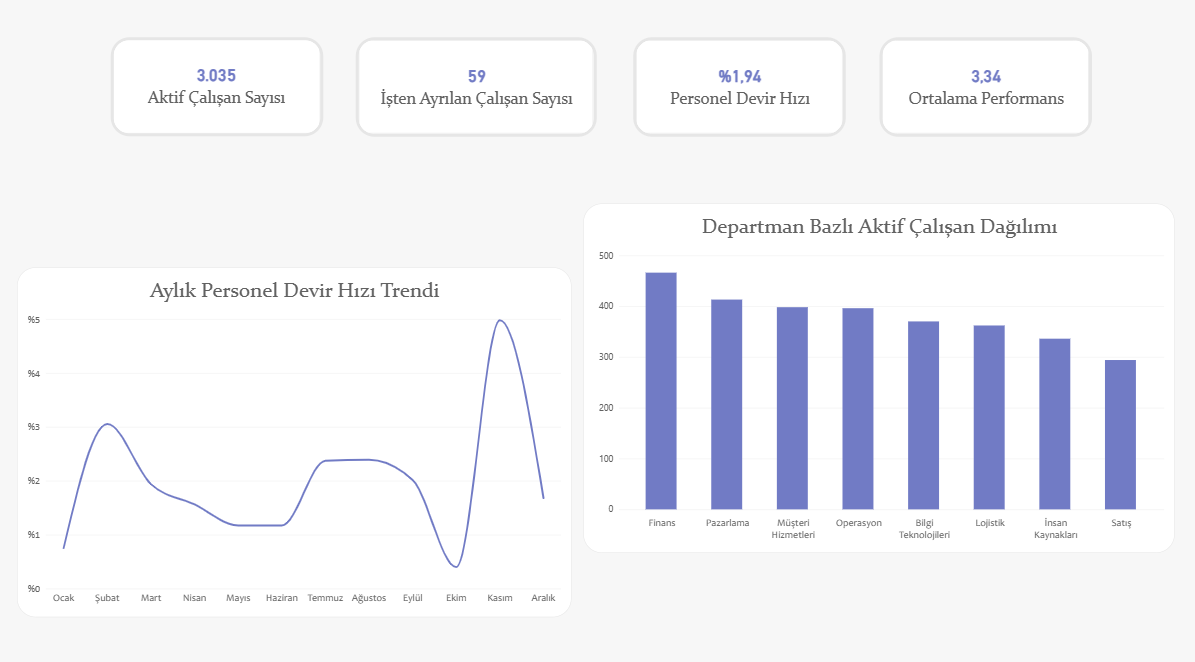

This screenshot's page, from the dashboard's own definition file:
{"tool":"powerbi","page":{"name":"İK & Çalışan Devir Oranı (Turnover) Paneli","canvas":[1920,1080],"ordinal":0},"visuals":[{"type":"cardVisual","fields":{"Data":["01 - Ölçüler.Aktif Çalışan Sayısı"]},"box":[182.8,67,339.6,158.5],"z":0},{"type":"cardVisual","fields":{"Data":["01 - Ölçüler.İşten Ayrılan Çalışan Sayısı"]},"box":[573.7,67,385.5,159.3],"z":1000},{"type":"cardVisual","fields":{"Data":["01 - Ölçüler.Personel Devir Hızı %"]},"box":[1018.8,67,340.2,159.3],"z":2000},{"type":"cardVisual","fields":{"Data":["01 - Ölçüler.Ortalama Performans"]},"box":[1411.5,67,340.2,159.3],"z":3000},{"type":"lineChart","title":"Aylık Personel Devir Hızı Trendi","fields":{"Category":["Tarih.Ay"],"Y":["01 - Ölçüler.Personel Devir Hızı"]},"box":[32.6,434.3,887.5,560],"z":4000},{"type":"clusteredColumnChart","title":"Departman Bazlı Aktif Çalışan Dağılımı","fields":{"Category":["Departmanlar.Departman Adı"],"Y":["01 - Ölçüler.Aktif Çalışan Sayısı"]},"box":[937.4,331.2,946.5,559.2],"z":4001}]}

Visuals, with their boxes in screenshot pixels (x1, y1, x2, y2), scaled from the page's 1920x1080 canvas onto the 1195x662 screenshot:
cardVisual - 01 - Ölçüler.Aktif Çalışan Sayısı: 114:41:325:138
cardVisual - 01 - Ölçüler.İşten Ayrılan Çalışan Sayısı: 357:41:597:139
cardVisual - 01 - Ölçüler.Personel Devir Hızı %: 634:41:846:139
cardVisual - 01 - Ölçüler.Ortalama Performans: 879:41:1090:139
"Aylık Personel Devir Hızı Trendi" lineChart: 20:266:573:609
"Departman Bazlı Aktif Çalışan Dağılımı" clusteredColumnChart: 583:203:1173:546
